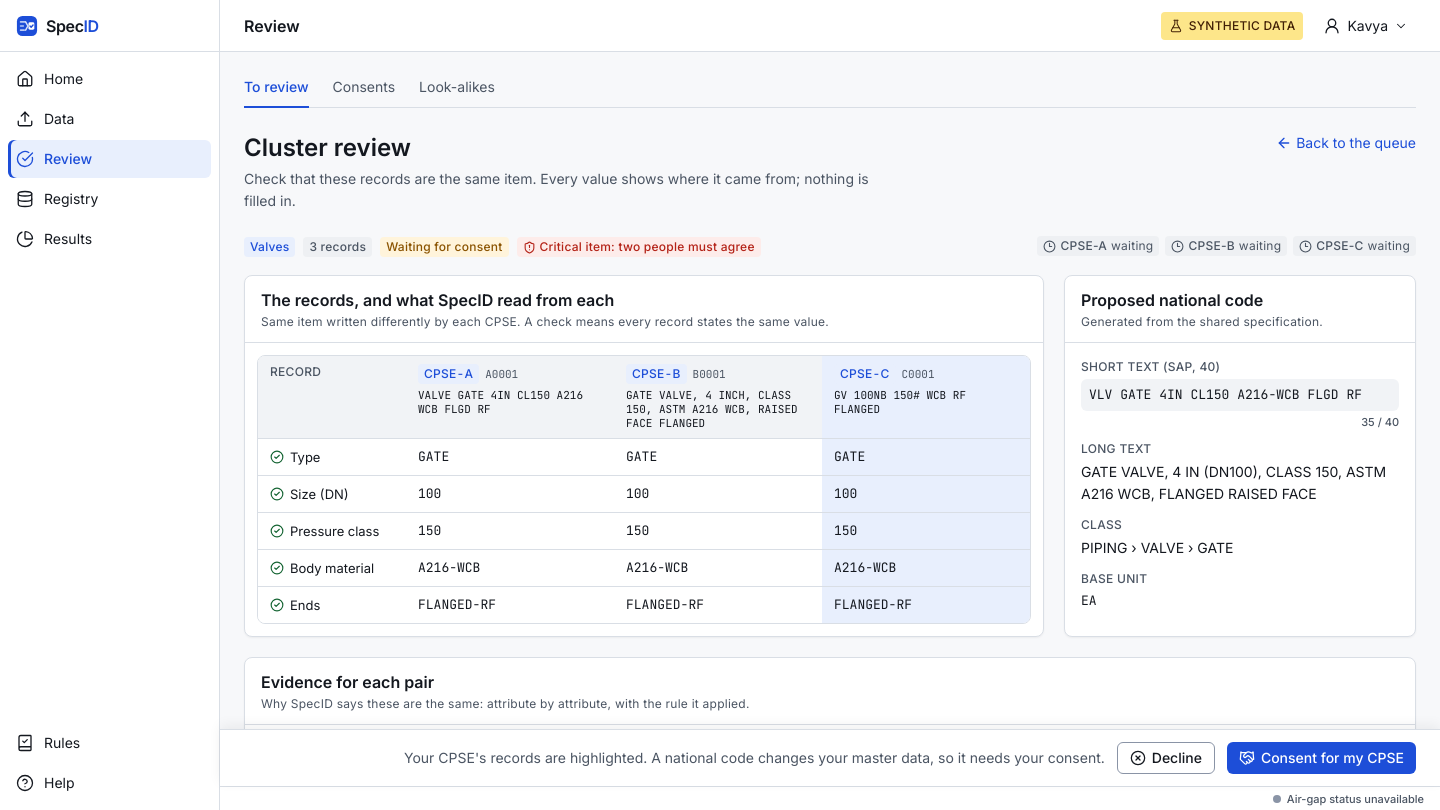
Scenario: S6 cluster review › the CPSE-C steward consents and the national code is issued
Click the button "Consent for my CPSE".
click(1321, 758)  # box [1227,742,1416,774]
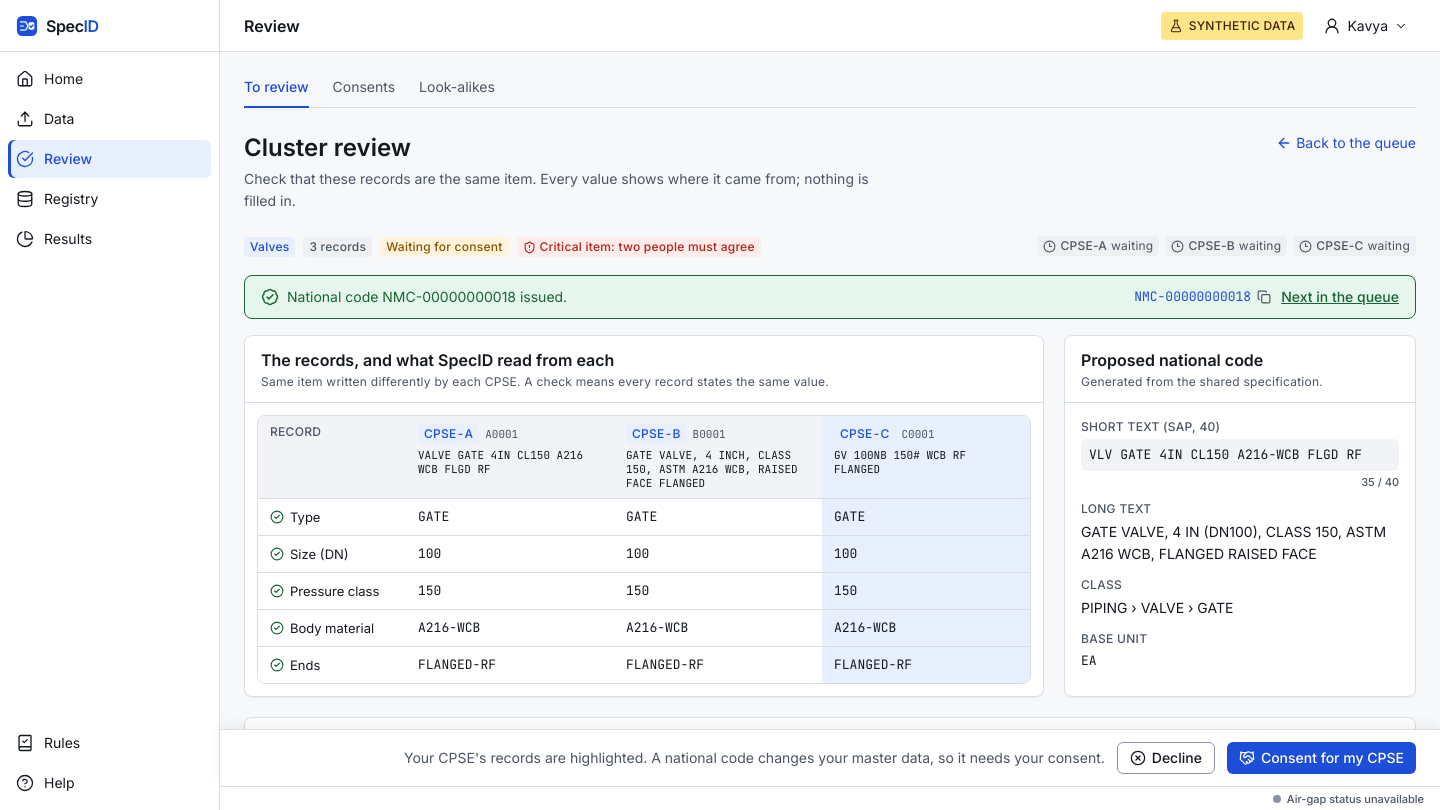
Check: the text "National code NMC-00000000018 issued." is shown, box [287,288,567,304]
